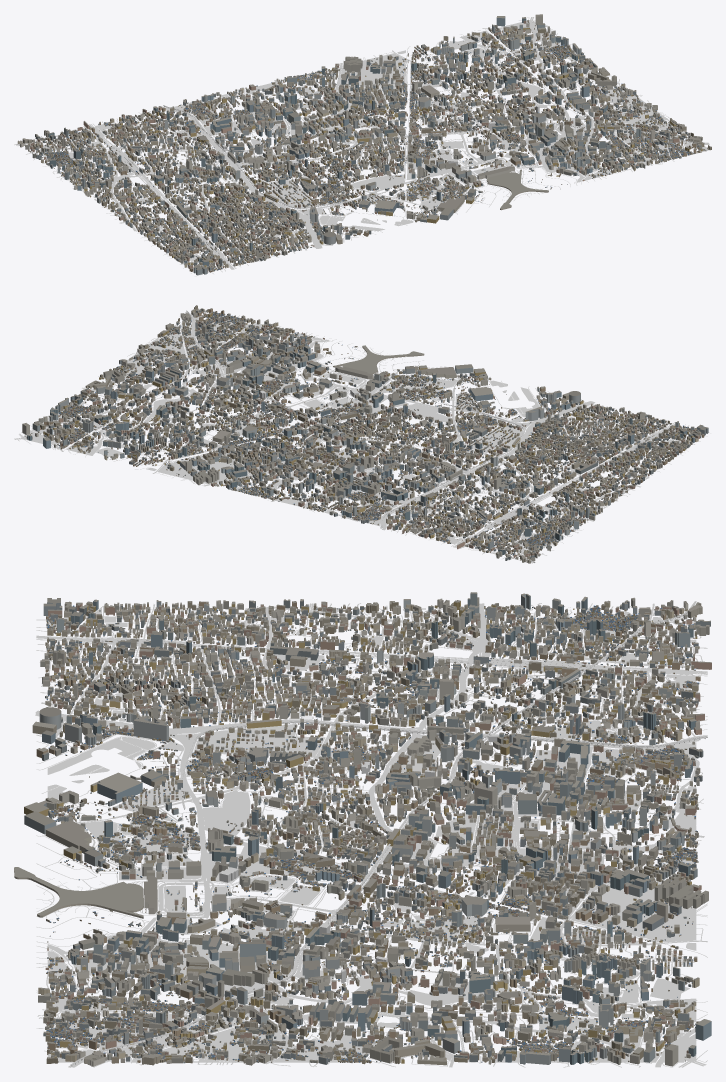
File: andheri-east.glb
3 renders of one model, top to bottom at view 1: azimuth 30°, elevation 25°; view 2: azimuth 150°, elevation 25°; view 3: azimuth 270°, elevation 25°, orthographic. The views are drawn at different scales.
Visible parts, largest first — view 1: buildings_0_0, land_built, buildings_2_1, buildings_1_1, roads_minor, buildings_0_1, buildings_3_0, buildings_2_0, buildings_3_1, buildings_1_0, roads_major, buildings_0_2 (+7 smaller); view 2: buildings_0_0, buildings_2_1, buildings_1_1, buildings_0_1, land_built, roads_minor, buildings_3_1, buildings_3_0, buildings_2_0, buildings_1_0, roads_major, buildings_0_2 (+7 smaller); view 3: buildings_0_0, buildings_2_1, buildings_0_1, buildings_1_1, land_built, roads_minor, buildings_3_0, buildings_3_1, buildings_2_0, buildings_1_0, roads_major, buildings_0_2 (+11 smaller).
Boxes of the visible parts, x1,y1,x2,y2 form: buildings_0_0: (119, 183, 335, 275); land_built: (30, 20, 709, 270); buildings_2_1: (313, 57, 528, 150); buildings_1_1: (182, 93, 387, 183); roads_minor: (26, 17, 705, 276); buildings_0_1: (45, 124, 245, 216); buildings_3_0: (529, 89, 711, 175); buildings_2_0: (392, 118, 603, 210); buildings_3_1: (446, 31, 627, 117); buildings_1_0: (257, 149, 465, 239); roads_major: (17, 17, 709, 250); buildings_0_2: (17, 109, 173, 159); buildings_0_0: (496, 391, 708, 489); buildings_2_1: (149, 384, 360, 479); buildings_1_1: (285, 419, 493, 512); buildings_0_1: (417, 456, 627, 544); land_built: (24, 308, 690, 560); roads_minor: (18, 312, 710, 560); buildings_3_1: (43, 365, 222, 447); buildings_3_0: (119, 305, 303, 389); buildings_2_0: (231, 333, 427, 422); buildings_1_0: (361, 367, 567, 455); roads_major: (14, 311, 649, 563); buildings_0_2: (398, 507, 550, 563); buildings_0_0: (39, 598, 339, 729); buildings_2_1: (325, 833, 620, 969); buildings_0_1: (325, 592, 617, 730); buildings_1_1: (328, 714, 616, 850); land_built: (47, 608, 696, 1062); roads_minor: (36, 603, 707, 1067); buildings_3_0: (46, 953, 333, 1066); buildings_3_1: (328, 956, 619, 1065); buildings_2_0: (14, 836, 339, 972); buildings_1_0: (42, 716, 334, 853); roads_major: (35, 603, 707, 1067); buildings_0_2: (613, 600, 711, 727).
Size of what is drawn, in the model's own units: 5810 by 107 by 3688.
